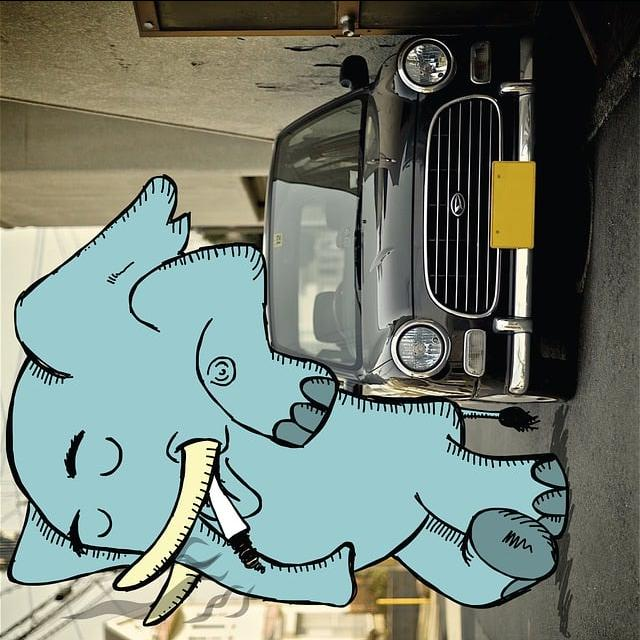Non_Gorille: (3, 24, 606, 598)
